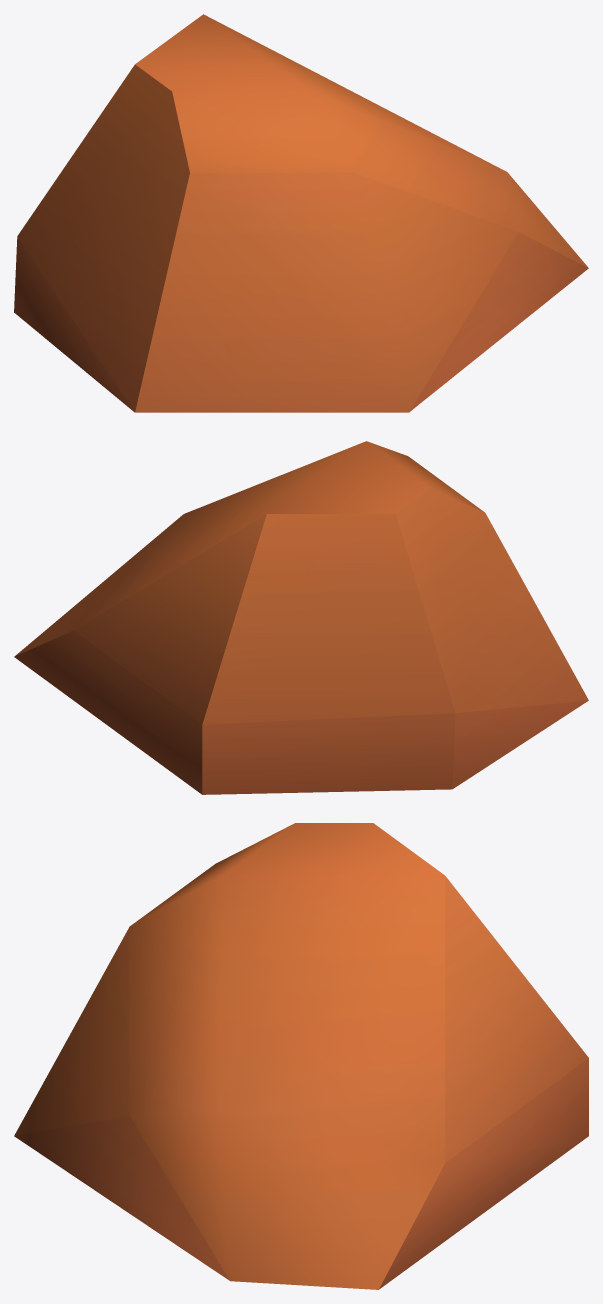
File: space-rock-a.glb
The picture shows the model from 3 angles, top to bottom: view 1: azimuth 30°, elevation 25°; view 2: azimuth 150°, elevation 25°; view 3: azimuth 270°, elevation 25°; orthographic projection. The views are drawn at different scales.
Parts seen in each view (by area): view 1: rock_A; view 2: rock_A; view 3: rock_A.
Boxes of the visible parts, x1=… form: rock_A: x1=14, y1=14, x2=588, y2=412; rock_A: x1=14, y1=441, x2=588, y2=794; rock_A: x1=14, y1=823, x2=588, y2=1289.
Bounding box in the file's own units: 0.533 × 0.25 × 0.5.
1 material, 1 textured.
